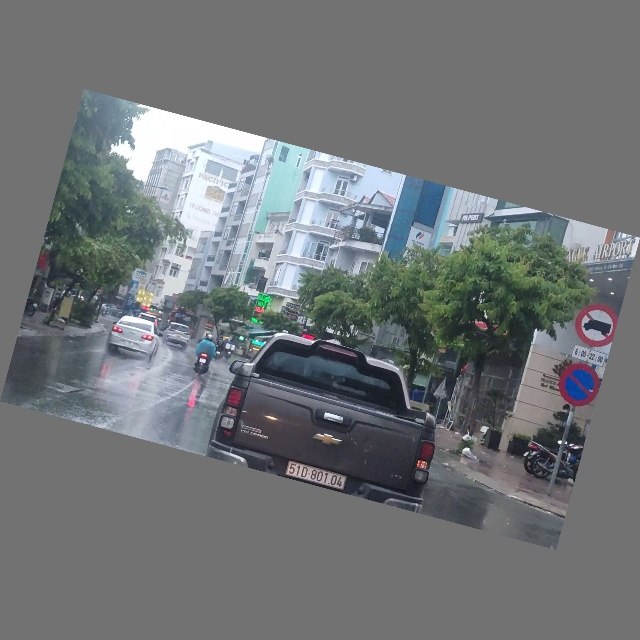P.106a*Xe tai: (570, 299, 621, 352)
P.131a: (554, 359, 604, 411)
